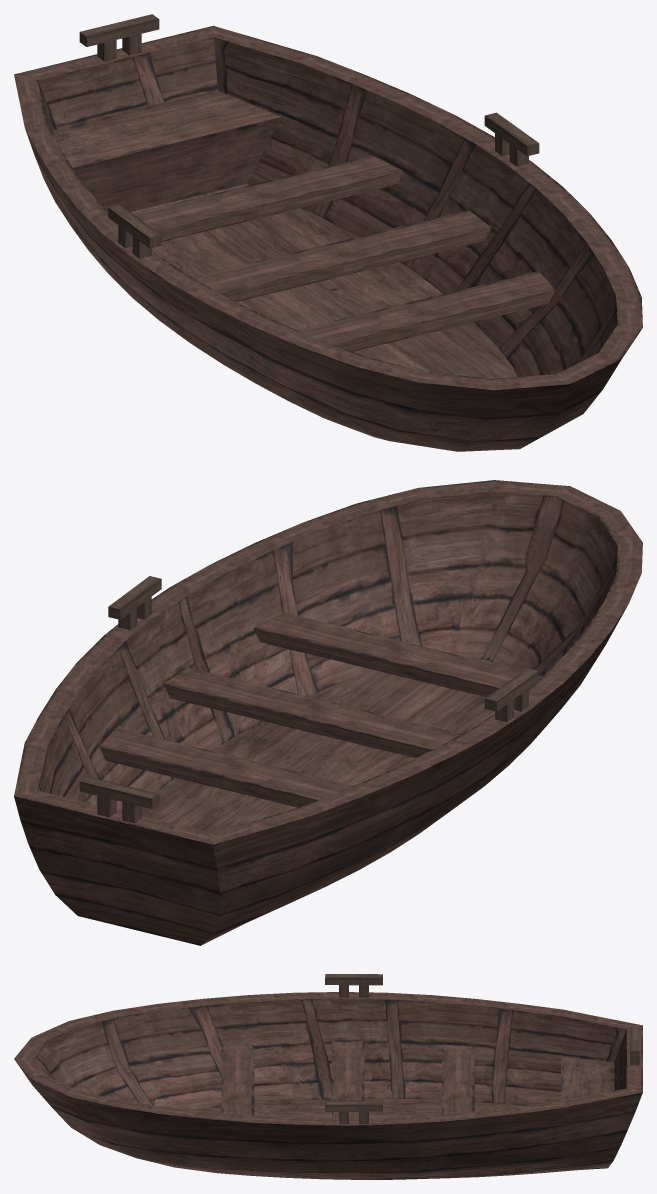
File: Dock_Boat_A_1.gltf
The picture shows the model from 3 angles, top to bottom: view 1: azimuth 30°, elevation 25°; view 2: azimuth 150°, elevation 25°; view 3: azimuth 270°, elevation 25°; orthographic projection. The views are drawn at different scales.
Parts seen in each view (by area): view 1: Dock_Boat_A_1; view 2: Dock_Boat_A_1; view 3: Dock_Boat_A_1.
Boxes of the visible parts, box(x1,y1,x2,y2) form: Dock_Boat_A_1: box(14, 14, 642, 451); Dock_Boat_A_1: box(14, 480, 642, 945); Dock_Boat_A_1: box(14, 974, 642, 1179).
Bounding box in the file's own units: 1.76 × 0.6666 × 3.5.
2 materials, 2 textured.
